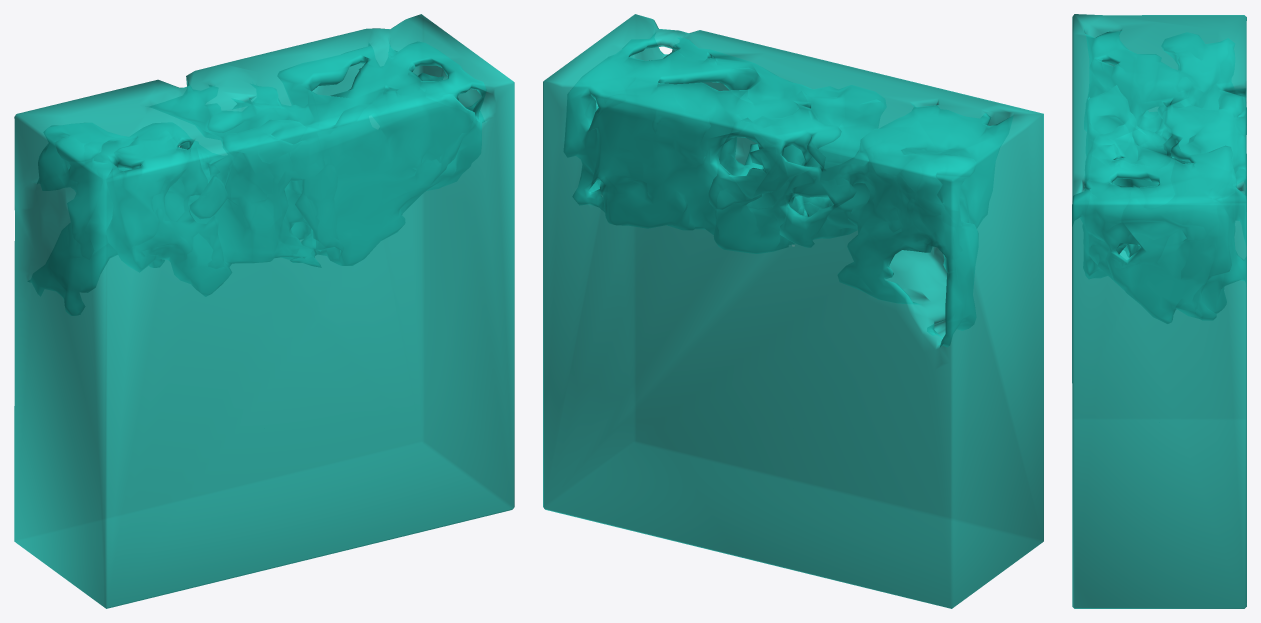
3 renders of one model, left to right at view 1: azimuth 30°, elevation 25°; view 2: azimuth 150°, elevation 25°; view 3: azimuth 270°, elevation 25°, orthographic. The views are drawn at different scales.
Parts seen in each view (by area): view 1: Liquid_Domain; view 2: Liquid_Domain; view 3: Liquid_Domain.
Boxes of the visible parts, <box> form: Liquid_Domain: <box>14,14,514,608</box>; Liquid_Domain: <box>543,14,1043,608</box>; Liquid_Domain: <box>1072,14,1246,608</box>.
Bounding box in the file's own units: 1965 × 1965 × 766.
